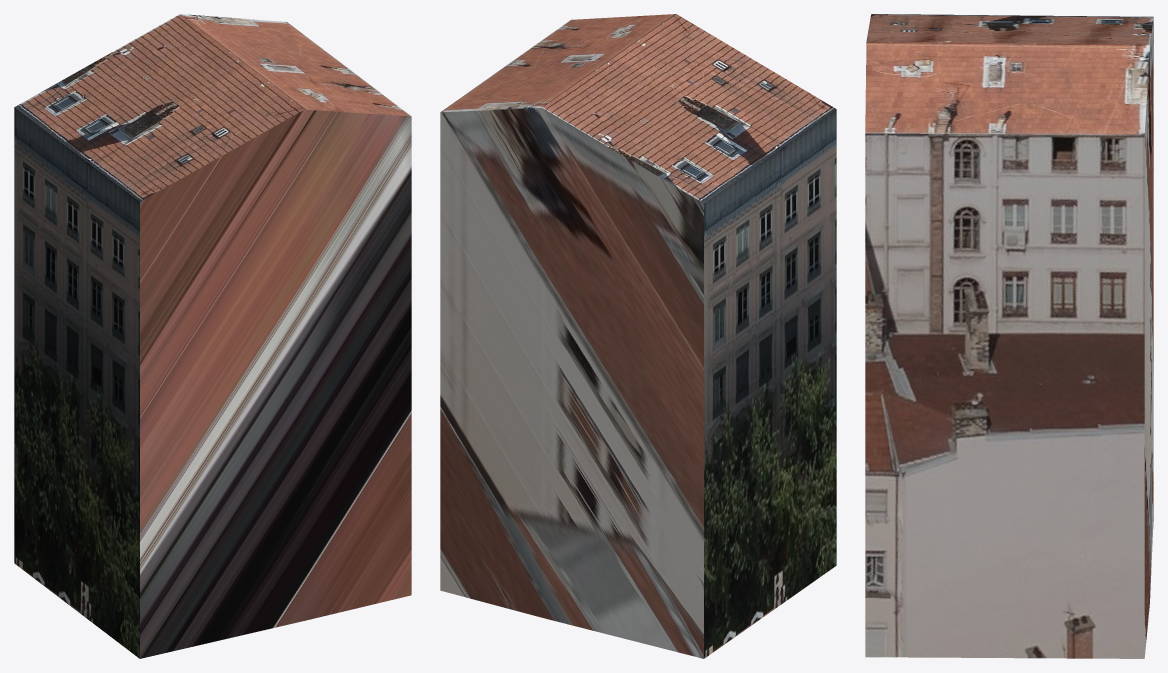
3 renders of one model, left to right at view 1: azimuth 30°, elevation 25°; view 2: azimuth 150°, elevation 25°; view 3: azimuth 270°, elevation 25°, orthographic. The views are drawn at different scales.
Parts seen in each view (by area): view 1: Z_UP; view 2: Z_UP; view 3: Z_UP.
Part boxes in pixels (x1=…): Z_UP: x1=14, y1=14, x2=411, y2=658; Z_UP: x1=440, y1=14, x2=836, y2=658; Z_UP: x1=865, y1=14, x2=1153, y2=658.
Size of the model in its own units: 15.31 by 27.46 by 12.85.
2 materials, 1 textured.
